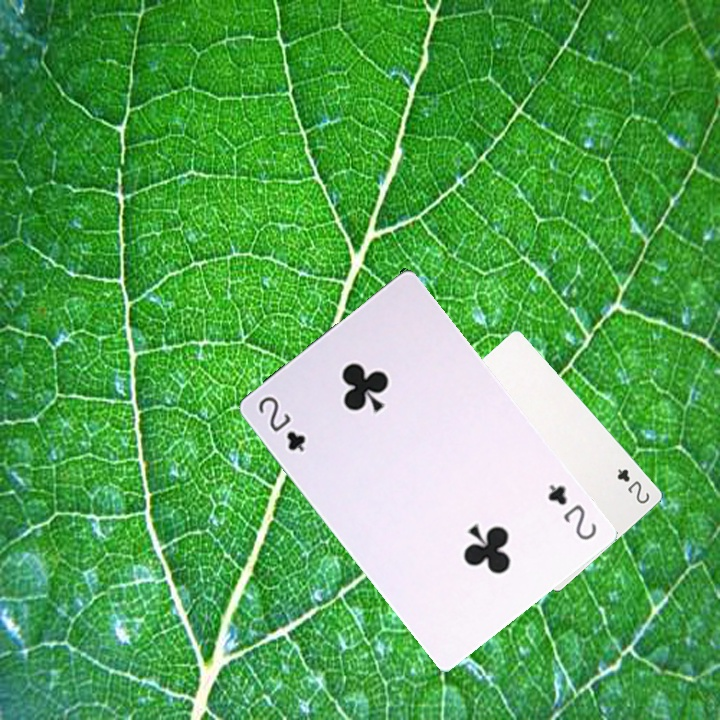2c: (543, 480, 600, 543), (254, 392, 309, 455), (613, 464, 652, 506)
